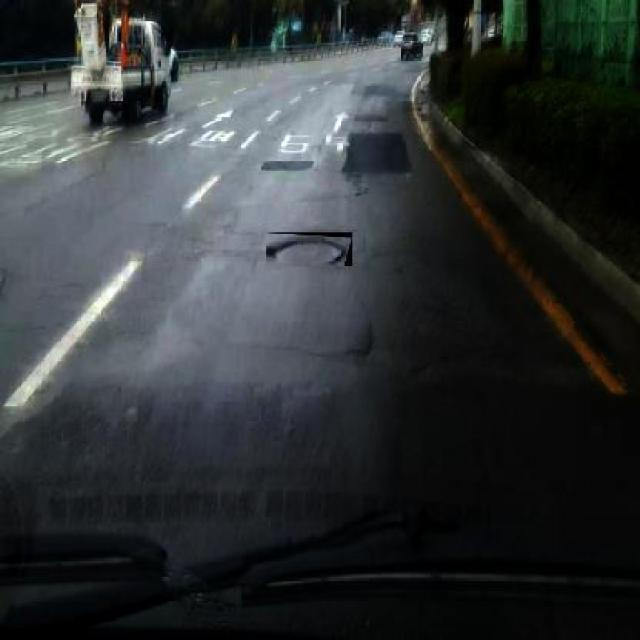Manhole: (266, 232, 352, 266)
